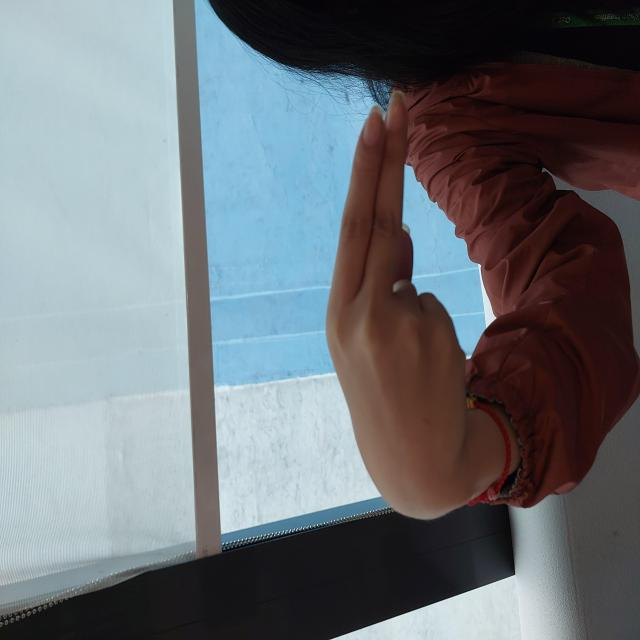H: (115, 324, 553, 471)
